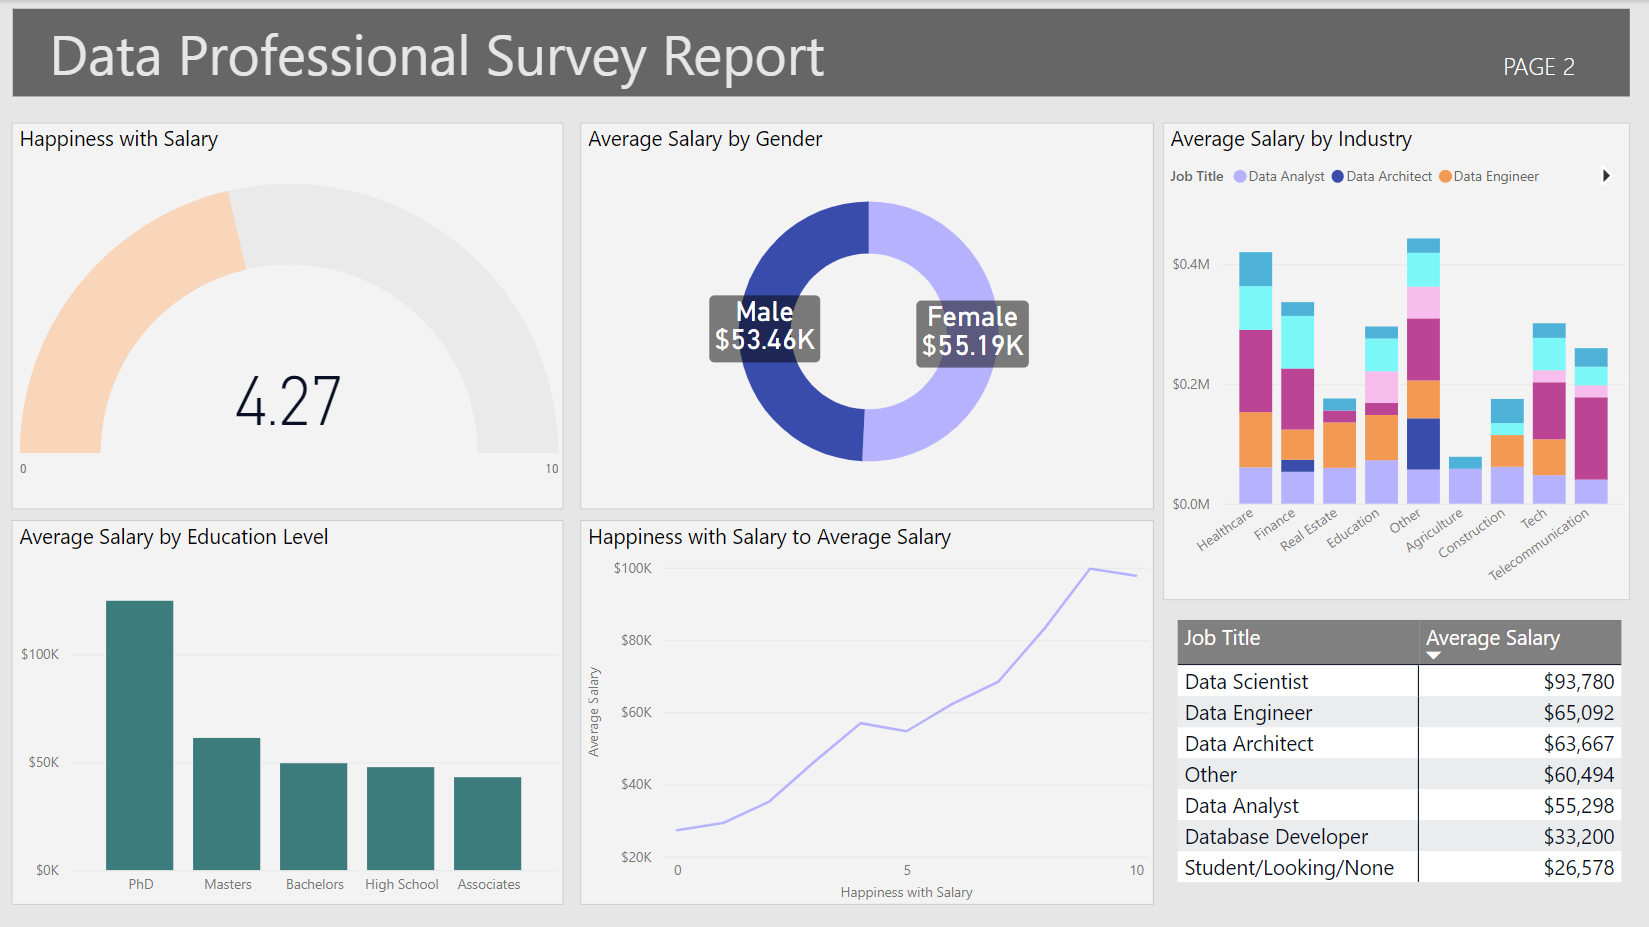

The page's visual inventory and layout, read from the dashboard file:
{"tool":"powerbi","page":{"name":"Page 2","canvas":[1280,720],"ordinal":1},"visuals":[{"type":"textbox","box":[10.7,6.8,1253.9,67.8],"z":0},{"type":"columnChart","title":"Average Salary by Industry","fields":{"Category":["Data Professional Survey.Q4 - What Industry do you work in?.1"],"Y":["Avg(Data Professional Survey.Average Salary)"],"Series":["Data Professional Survey.Q1 - Which Title Best Fits your Current Role?.1"]},"box":[902.1,95.2,362.3,370.8],"z":1000},{"type":"gauge","title":"Happiness with Salary","fields":{"Y":["Avg(Data Professional Survey.Q6 - How Happy are you in your Current Position with the following? (Salary))"],"MinValue":["Min(Data Professional Survey.Q6 - How Happy are you in your Current Position with the following? (Salary))"],"MaxValue":["Max(Data Professional Survey.Q6 - How Happy are you in your Current Position with the following? (Salary))"]},"box":[9.9,95.2,427.6,299.8],"z":2000},{"type":"donutChart","title":"Average Salary by Gender","fields":{"Category":["Data Professional Survey.Q9 - Male/Female?"],"Y":["Avg(Data Professional Survey.Average Salary)"]},"box":[450.3,95.2,444.7,299.8],"z":3000},{"type":"pivotTable","fields":{"Values":["Avg(Data Professional Survey.Average Salary)"],"Rows":["Data Professional Survey.Q1 - Which Title Best Fits your Current Role?.1"]},"box":[909.2,475.9,355.2,225.9],"z":4000},{"type":"lineChart","title":"Happiness with Salary to Average Salary","fields":{"Category":["Data Professional Survey.Q6 - How Happy are you in your Current Position with the following? (Salary)"],"Y":["Avg(Data Professional Survey.Average Salary)"]},"box":[450.3,403.5,444.7,298.3],"z":5000},{"type":"clusteredColumnChart","title":"Average Salary by Education Level","fields":{"Category":["Data Professional Survey.Q12 - Highest Level of Education"],"Y":["Avg(Data Professional Survey.Average Salary)"]},"box":[10,403,428,298],"z":5001}]}

Visuals, with their boxes in screenshot pixels (x1, y1, x2, y2), scaled from the page's 1280x720 canvas onto the 1649x927 screenshot:
textbox: pyautogui.locateOnScreen(14, 9, 1629, 96)
"Average Salary by Industry" columnChart: pyautogui.locateOnScreen(1162, 123, 1629, 600)
"Happiness with Salary" gauge: pyautogui.locateOnScreen(13, 123, 564, 509)
"Average Salary by Gender" donutChart: pyautogui.locateOnScreen(580, 123, 1153, 509)
pivotTable - Avg(Data Professional Survey.Average Salary) x Data Professional Survey.Q1 - Which Title Best Fits your Current Role?.1: pyautogui.locateOnScreen(1171, 613, 1629, 904)
"Happiness with Salary to Average Salary" lineChart: pyautogui.locateOnScreen(580, 520, 1153, 904)
"Average Salary by Education Level" clusteredColumnChart: pyautogui.locateOnScreen(13, 519, 564, 903)
